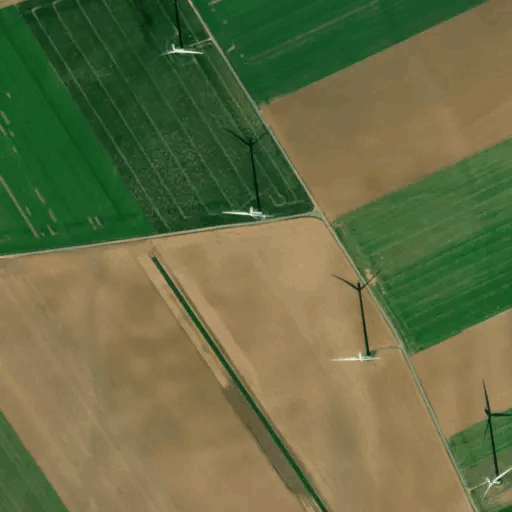wt: (325, 262, 388, 380), (220, 112, 278, 227), (465, 374, 512, 503), (159, 1, 214, 76)
